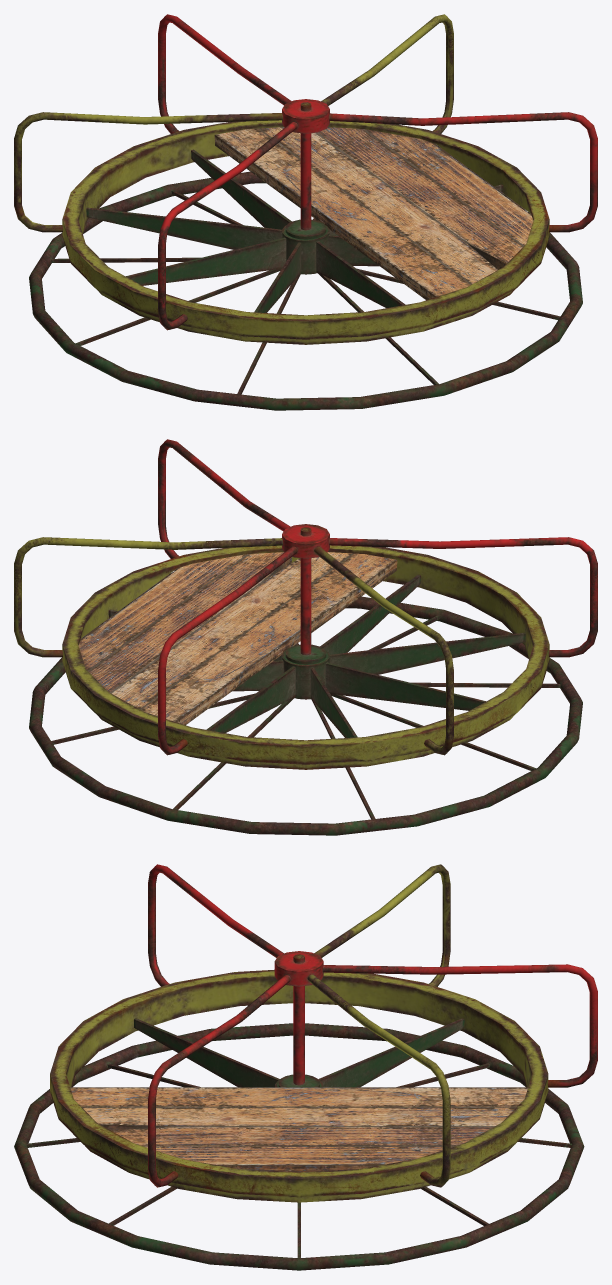
The model's file is acarousel.gltf.
The picture shows the model from 3 angles, top to bottom: view 1: azimuth 30°, elevation 25°; view 2: azimuth 150°, elevation 25°; view 3: azimuth 270°, elevation 25°; orthographic projection. The views are drawn at different scales.
Visible parts, largest first — view 1: carousel_002, carousel_001; view 2: carousel_002, carousel_001; view 3: carousel_002, carousel_001.
Part boxes in pixels (bbox=[...]): carousel_002: bbox=[14, 14, 597, 344]; carousel_001: bbox=[29, 171, 582, 410]; carousel_002: bbox=[14, 439, 597, 769]; carousel_001: bbox=[29, 596, 582, 835]; carousel_002: bbox=[50, 864, 597, 1202]; carousel_001: bbox=[14, 1023, 584, 1270].
Bounding box in the file's own units: 2.05 × 0.7719 × 2.1.
Materials: 1 (1 with a texture image).
